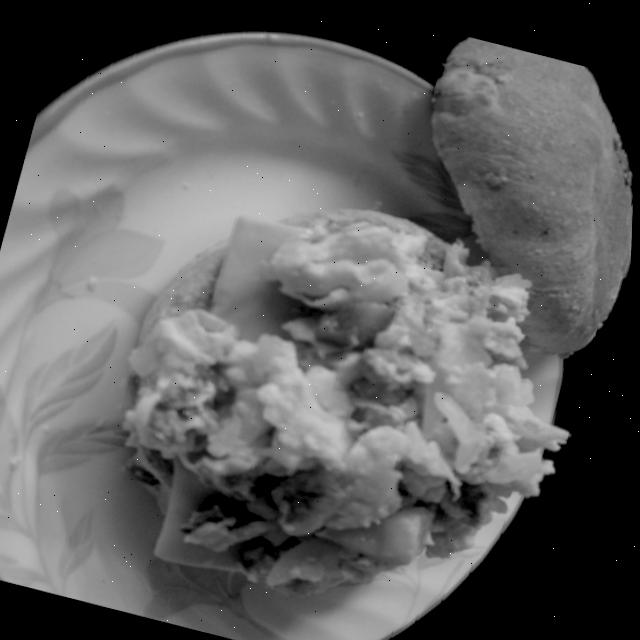鸡蛋料理: (46, 132, 623, 640)
